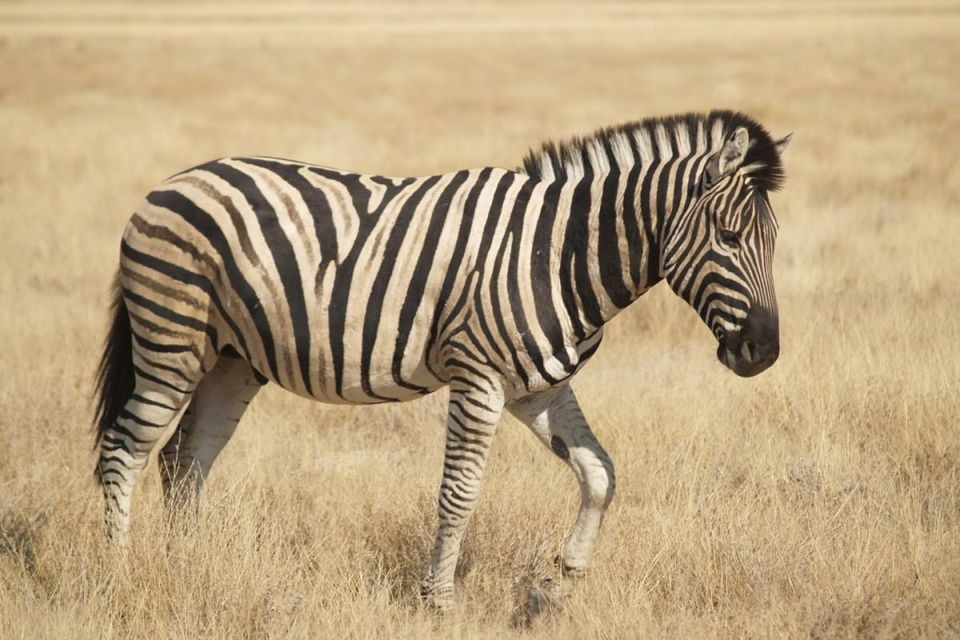zebra: (90, 100, 794, 621)
